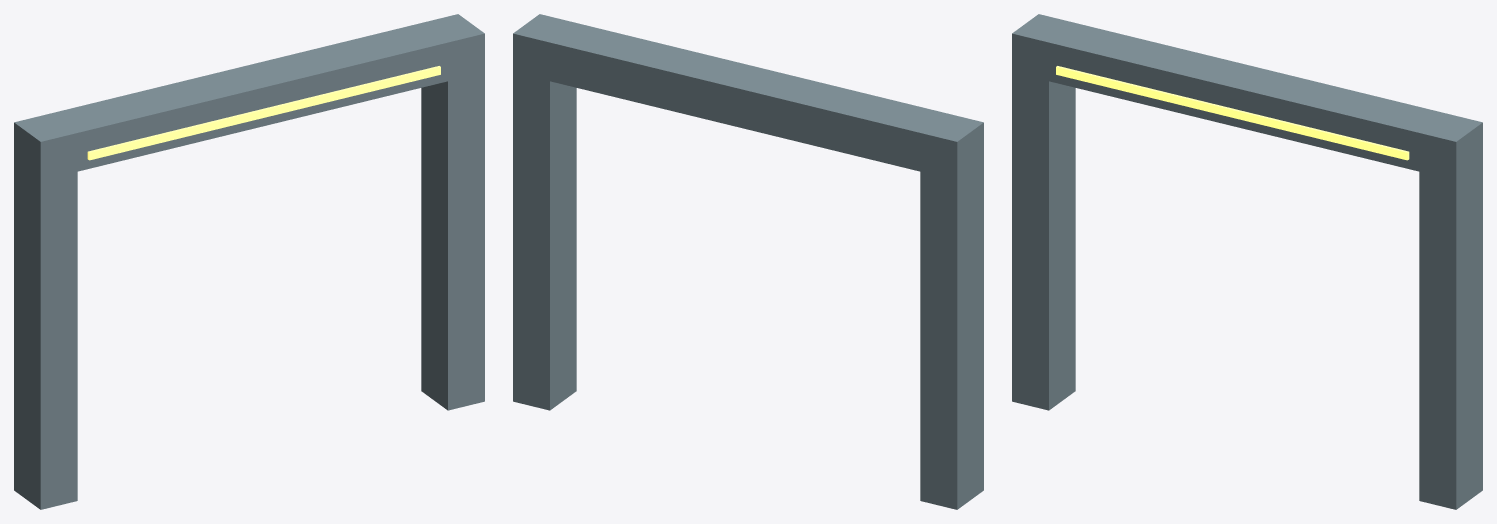
File: Street_Gate_Frame_4m.glb
3 renders of one model, left to right at view 1: azimuth 30°, elevation 25°; view 2: azimuth 150°, elevation 25°; view 3: azimuth 330°, elevation 25°, orthographic.
Visible parts, largest first — view 1: Street_Gate_Frame_4m; view 2: Street_Gate_Frame_4m; view 3: Street_Gate_Frame_4m.
Part boxes in pixels (box(x1,y1,x2,y2)): Street_Gate_Frame_4m: box(14, 14, 484, 509); Street_Gate_Frame_4m: box(513, 14, 983, 509); Street_Gate_Frame_4m: box(1012, 14, 1482, 509).
Bounding box in the file's own units: 4.8 × 3.8 × 0.545.
